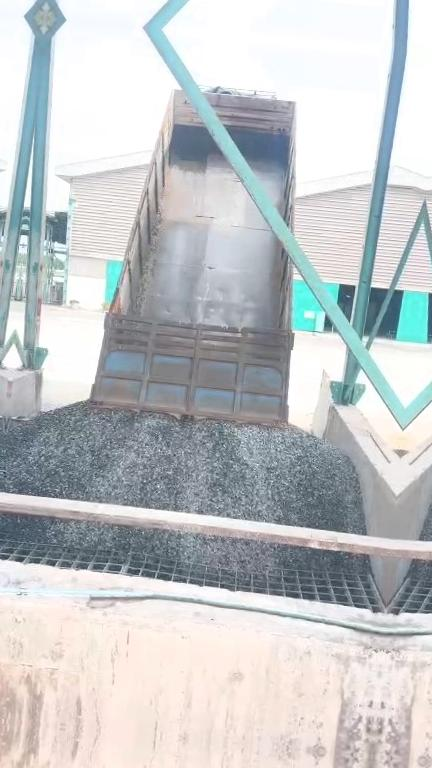gravel: (0, 402, 364, 532), (0, 516, 367, 571)
